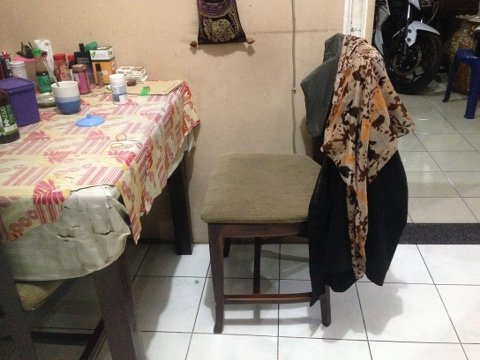kursi: (201, 33, 365, 335)
meja: (1, 79, 197, 360)
